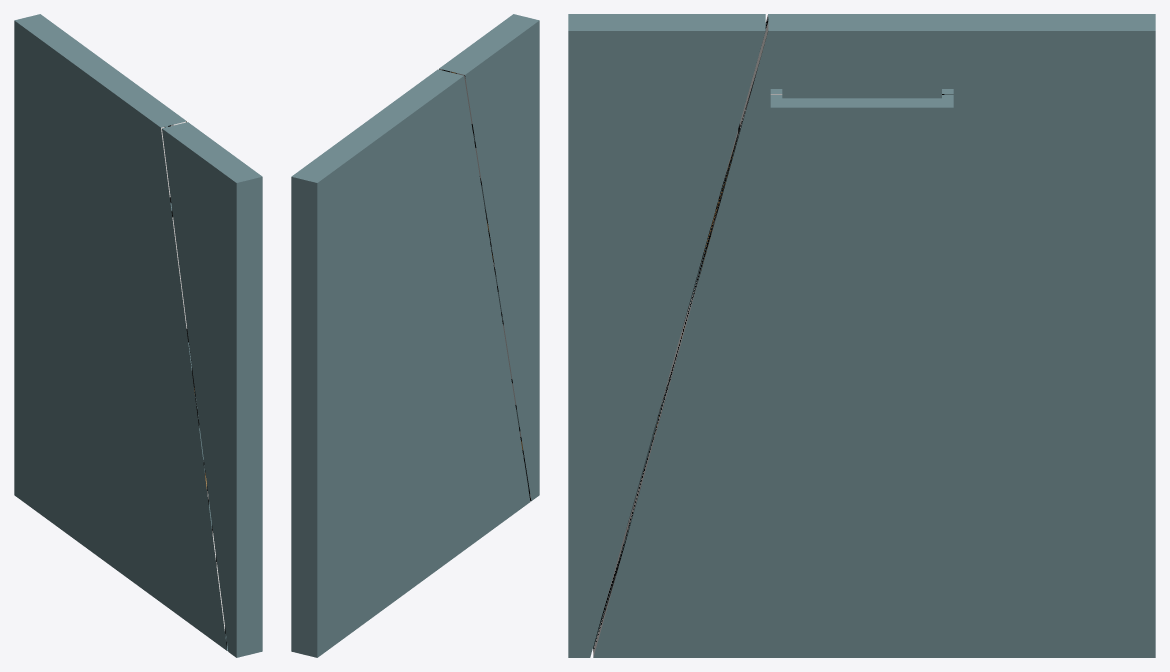
File: Cabinet_Big_Door.004_cell.fbx
3 views of the same model, side by side, from view 1: azimuth 30°, elevation 25°; view 2: azimuth 150°, elevation 25°; view 3: azimuth 270°, elevation 25° (orthographic). The views are drawn at different scales.
Visible parts, largest first — view 1: Cabinet_Big_Door.004_cell.001, Cabinet_Big_Door.004_cell.002; view 2: Cabinet_Big_Door.004_cell.001, Cabinet_Big_Door.004_cell.002; view 3: Cabinet_Big_Door.004_cell.001, Cabinet_Big_Door.004_cell.002, Cabinet_Big_Door.004_cell.
Part boxes in pixels (box(x1,y1,x2,y2)): Cabinet_Big_Door.004_cell.001: box(14, 14, 227, 650); Cabinet_Big_Door.004_cell.002: box(162, 122, 262, 657); Cabinet_Big_Door.004_cell.001: box(291, 69, 530, 657); Cabinet_Big_Door.004_cell.002: box(439, 14, 539, 501); Cabinet_Big_Door.004_cell.001: box(593, 14, 1155, 657); Cabinet_Big_Door.004_cell.002: box(568, 14, 765, 657); Cabinet_Big_Door.004_cell: box(770, 95, 953, 144).
Size of the model in its own units: 7.26 by 59.75 by 50.7.
